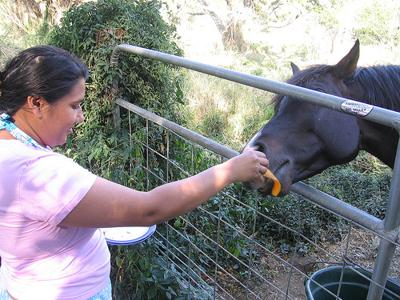person: (2, 45, 270, 300)
